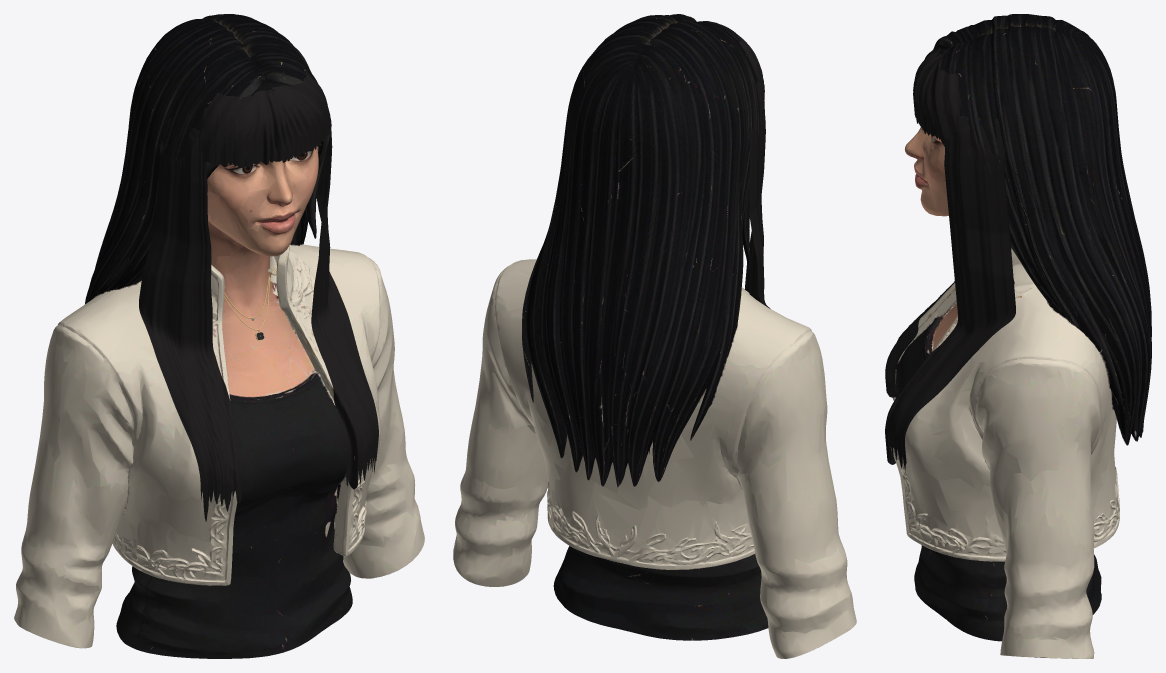
Rendered from fatima-simple.glb.
3 views of the same model, side by side, from view 1: azimuth 30°, elevation 25°; view 2: azimuth 150°, elevation 25°; view 3: azimuth 270°, elevation 25° (orthographic). The views are drawn at different scales.
Parts seen in each view (by area): view 1: Buste_simple, Meches_avant_g, Frange, Meches_avant_d; view 2: Buste_simple, Meches_avant_g; view 3: Buste_simple, Meches_avant_d, Frange, Meches_avant_g.
Part boxes in pixels (x1=…): Buste_simple: x1=14, y1=14, x2=424, y2=658; Meches_avant_g: x1=139, y1=118, x2=243, y2=521; Frange: x1=198, y1=71, x2=331, y2=167; Meches_avant_d: x1=311, y1=108, x2=378, y2=489; Buste_simple: x1=453, y1=14, x2=856, y2=658; Meches_avant_g: x1=744, y1=80, x2=770, y2=308; Buste_simple: x1=890, y1=14, x2=1151, y2=658; Meches_avant_d: x1=885, y1=115, x2=1015, y2=472; Frange: x1=913, y1=40, x2=961, y2=143; Meches_avant_g: x1=885, y1=281, x2=954, y2=397.
Bounding box in the file's own units: 1.35 × 1.9 × 0.8078.
Materials: 5 (1 with a texture image).
